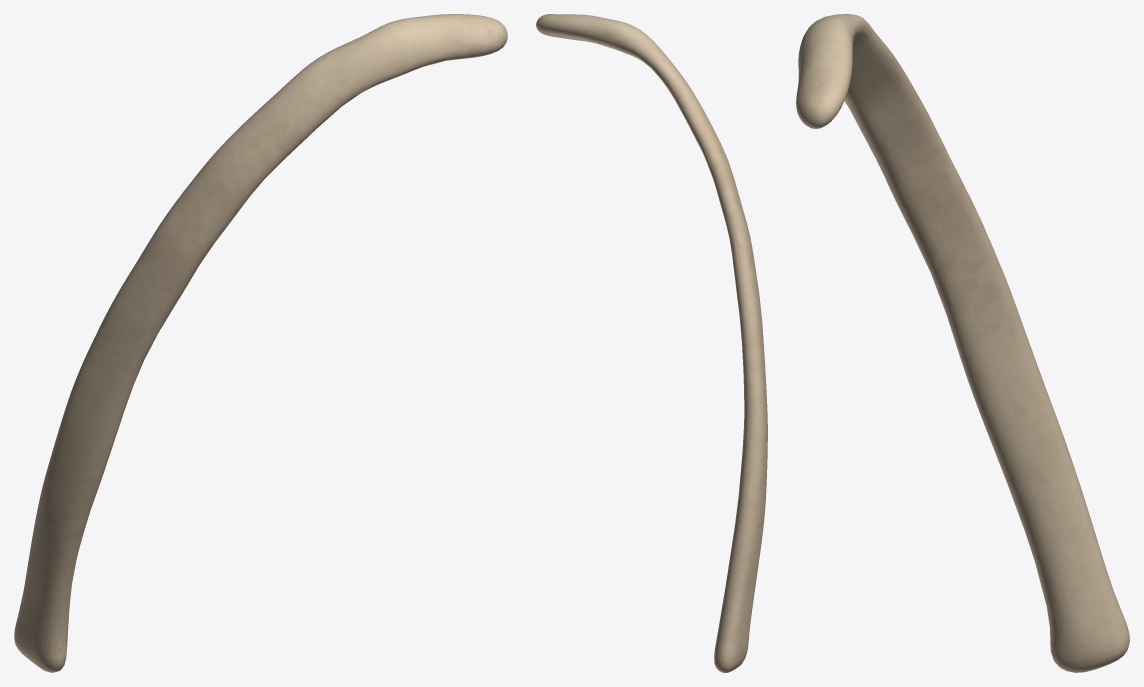
File: Rib R06.fbx
The picture shows the model from 3 angles, left to right: view 1: azimuth 30°, elevation 25°; view 2: azimuth 150°, elevation 25°; view 3: azimuth 270°, elevation 25°; orthographic projection. The views are drawn at different scales.
Visible parts, largest first — view 1: Rib R06 high, Rib R06, Rib R06 low; view 2: Rib R06 high, Rib R06, Rib R06 low; view 3: Rib R06 low, Rib R06, Rib R06 high.
Boxes of the visible parts, <box> form: Rib R06 high: <box>15,14,507,672</box>; Rib R06: <box>14,14,507,672</box>; Rib R06 low: <box>17,22,485,647</box>; Rib R06 high: <box>538,14,767,670</box>; Rib R06: <box>536,14,767,672</box>; Rib R06 low: <box>556,35,754,647</box>; Rib R06 low: <box>798,21,1114,639</box>; Rib R06: <box>796,14,1129,672</box>; Rib R06 high: <box>796,14,1128,672</box>.
Bounding box in the file's own units: 13.53 × 23.29 × 8.91.
